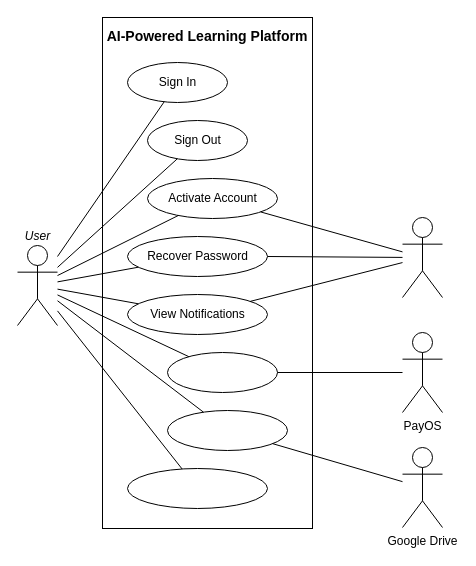
This 476x566 diagram has some shape labels left out. Here are the shapes that lost their labels. From the top down, the centre of each, then its label:
(x=422, y=257): Email Service
(x=222, y=372): Buy AI Credits
(x=227, y=430): Manage Profile
(x=197, y=488): Change Password
